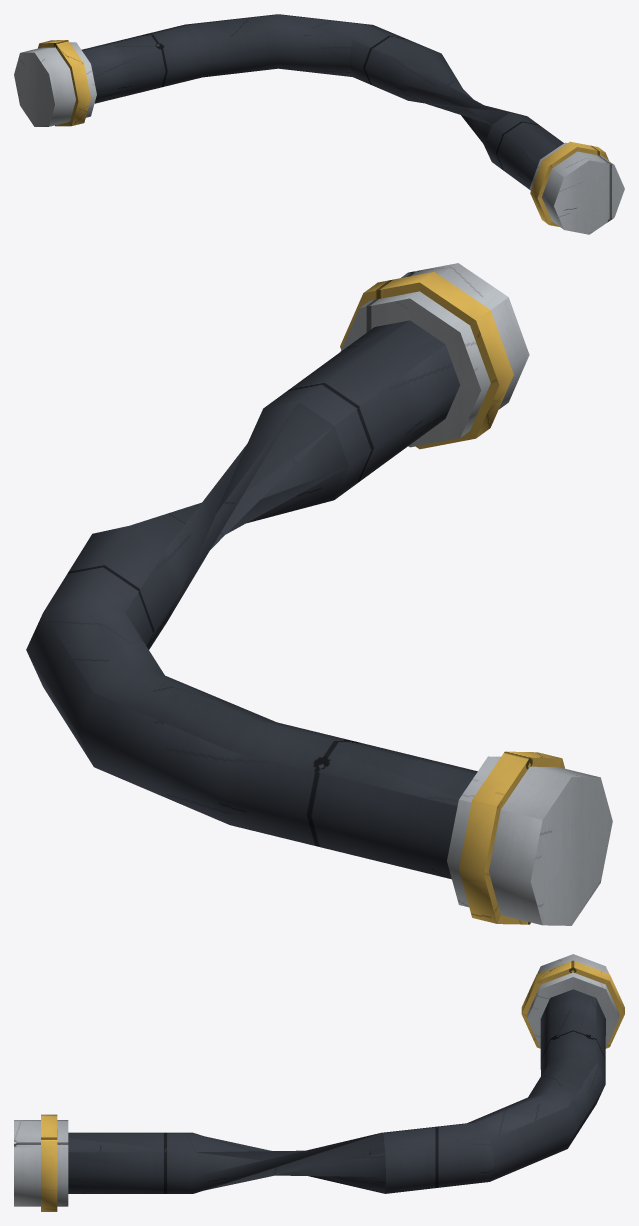
Rendered from hose_90_bend.glb.
3 renders of one model, top to bottom at view 1: azimuth 30°, elevation 25°; view 2: azimuth 150°, elevation 25°; view 3: azimuth 270°, elevation 25°, orthographic. The views are drawn at different scales.
Parts seen in each view (by area): view 1: DL016_Hose90_rubber_dark, DL016_Hose90_titanium, DL016_Hose90_amber_accent; view 2: DL016_Hose90_rubber_dark, DL016_Hose90_titanium, DL016_Hose90_amber_accent; view 3: DL016_Hose90_rubber_dark, DL016_Hose90_titanium, DL016_Hose90_amber_accent.
Boxes of the visible parts, x1,y1,x2,y2 form: DL016_Hose90_rubber_dark: (81, 14, 563, 189); DL016_Hose90_titanium: (14, 42, 624, 234); DL016_Hose90_amber_accent: (38, 40, 608, 226); DL016_Hose90_rubber_dark: (26, 320, 477, 879); DL016_Hose90_titanium: (340, 263, 612, 925); DL016_Hose90_amber_accent: (340, 272, 564, 924); DL016_Hose90_rubber_dark: (68, 989, 605, 1193); DL016_Hose90_titanium: (14, 954, 619, 1206); DL016_Hose90_amber_accent: (41, 960, 624, 1211).
Size of the model in its own units: 1.65 by 0.3808 by 2.25.
Materials: 3 (3 with a texture image).
